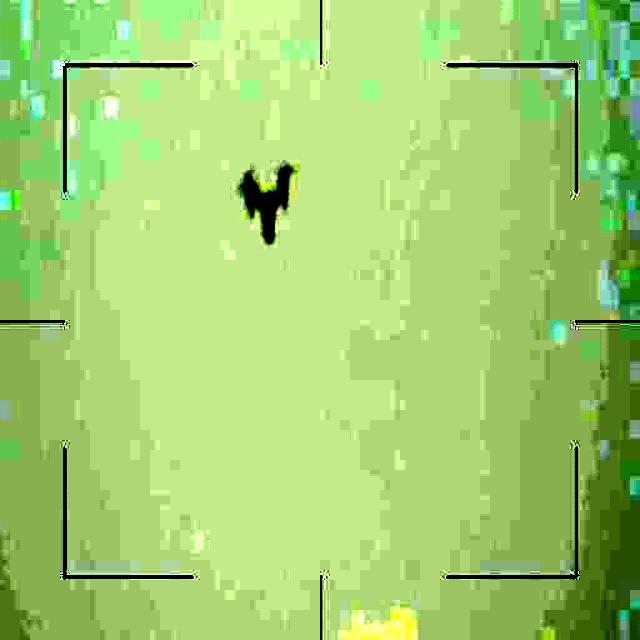bird: (234, 165, 296, 240)
